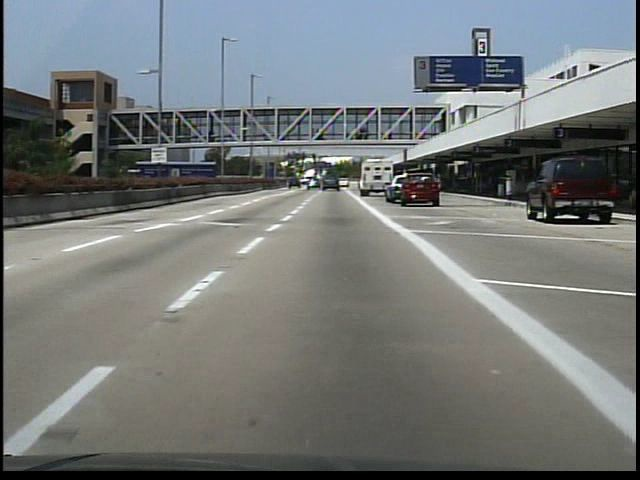person: (428, 173, 445, 206)
